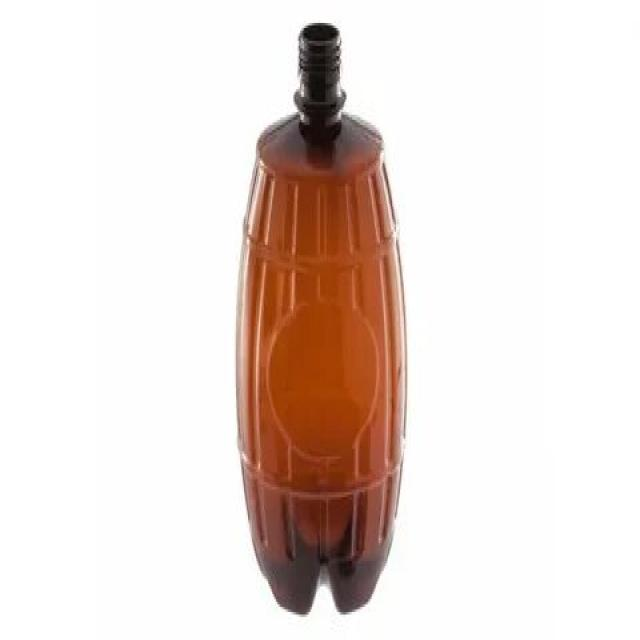brown: (235, 21, 408, 614)
